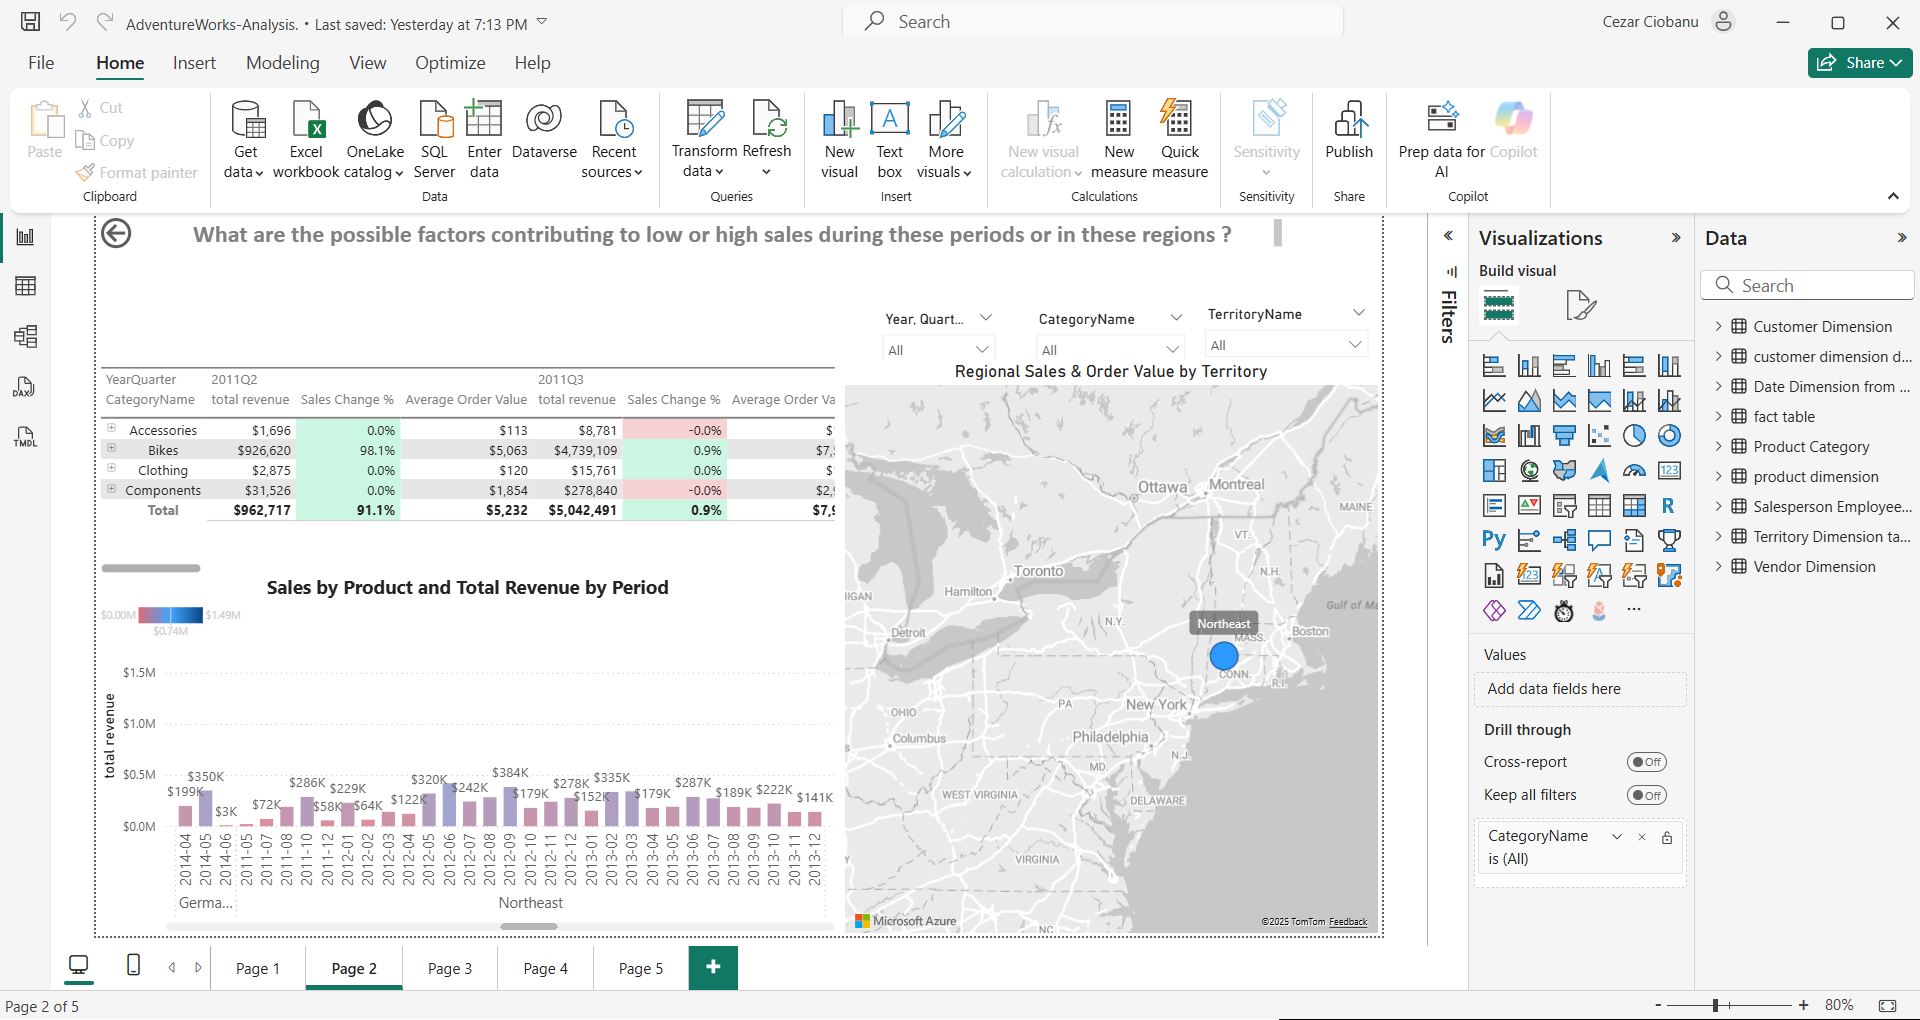

This screenshot's page, from the dashboard's own definition file:
{"tool":"powerbi","page":{"name":"Page 2","canvas":[1280,720],"ordinal":1},"visuals":[{"type":"columnChart","title":"Sales by Product and Total Revenue by Period","fields":{"Category":["Territory Dimension table.TerritoryName","Date Dimension from orders.Period"],"Y":["fact table.total revenue"]},"box":[0,359.5,740.2,360.7],"z":0},{"type":"slicer","title":"Period","fields":{"Values":["Date Dimension from orders.Year","Date Dimension from orders.Quarter"]},"box":[772.2,92.2,132.2,56.7],"z":1000},{"type":"actionButton","box":[0,0,100,40],"z":2000},{"type":"slicer","fields":{"Values":["Product Category.CategoryName"]},"box":[925,92.5,168.8,55],"z":3000},{"type":"slicer","fields":{"Values":["Territory Dimension table.TerritoryName"]},"box":[1093.8,87.5,182.5,60],"z":4000},{"type":"textbox","box":[50,1.7,1135,38.3],"z":5000},{"type":"pivotTable","fields":{"Rows":["Product Category.CategoryName","product dimension.ProductName"],"Columns":["Date Dimension from orders.YearQuarter"],"Values":["fact table.total revenue","fact table.Sales Change %","fact table.Average Order Value"]},"box":[0,147.5,740,215],"z":6000},{"type":"azureMap","title":"Regional Sales & Order Value by Territory ","fields":{"Category":["Territory Dimension table.TerritoryName","Territory Dimension table.TerritoryGroup","Territory Dimension table.CountryRegionCode"],"Size":["fact table.total revenue"]},"box":[740,146.2,540,573.8],"z":7000}]}

Visuals, with their boxes on the page's 1280x720 design canvas (x1, y1, x2, y2). These are canvas units, not pixel positions in the 1920x1020 screenshot, which may show the page scaled, cropped or inside an application window:
"Sales by Product and Total Revenue by Period" columnChart: pyautogui.locateOnScreen(0, 360, 740, 720)
"Period" slicer: pyautogui.locateOnScreen(772, 92, 904, 149)
actionButton: pyautogui.locateOnScreen(0, 0, 100, 40)
slicer - Product Category.CategoryName: pyautogui.locateOnScreen(925, 92, 1094, 148)
slicer - Territory Dimension table.TerritoryName: pyautogui.locateOnScreen(1094, 88, 1276, 148)
textbox: pyautogui.locateOnScreen(50, 2, 1185, 40)
pivotTable - Product Category.CategoryName x product dimension.ProductName: pyautogui.locateOnScreen(0, 148, 740, 362)
"Regional Sales & Order Value by Territory " azureMap: pyautogui.locateOnScreen(740, 146, 1280, 720)
